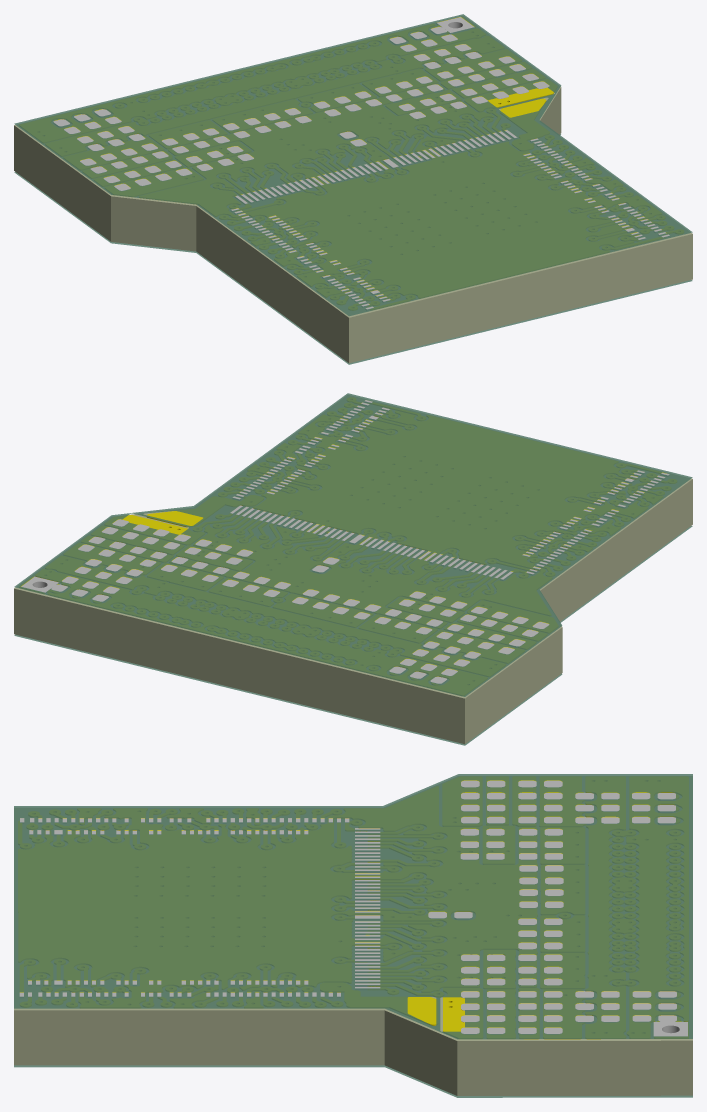
File: ASIC_512_Source_Board_V1.glb
The picture shows the model from 3 angles, top to bottom: view 1: azimuth 30°, elevation 25°; view 2: azimuth 150°, elevation 25°; view 3: azimuth 270°, elevation 25°; orthographic projection. The views are drawn at different scales.
Parts seen in each view (by area): view 1: =>[0:1:1:6], =>[0:1:1:2], =>[0:1:1:8], =>[0:1:1:3], =>[0:1:1:7], =>[0:1:1:4]; view 2: =>[0:1:1:6], =>[0:1:1:2], =>[0:1:1:8], =>[0:1:1:3], =>[0:1:1:7], =>[0:1:1:4]; view 3: =>[0:1:1:6], =>[0:1:1:2], =>[0:1:1:8], =>[0:1:1:3], =>[0:1:1:7], =>[0:1:1:4].
Boxes of the visible parts, x1,y1,x2,y2 form: =>[0:1:1:6]: (14, 14, 692, 316); =>[0:1:1:2]: (19, 17, 683, 310); =>[0:1:1:8]: (14, 16, 692, 363); =>[0:1:1:3]: (53, 17, 669, 310); =>[0:1:1:7]: (14, 134, 692, 364); =>[0:1:1:4]: (37, 27, 680, 307); =>[0:1:1:6]: (14, 393, 692, 696); =>[0:1:1:2]: (19, 398, 676, 695); =>[0:1:1:8]: (14, 395, 692, 744); =>[0:1:1:3]: (21, 400, 669, 684); =>[0:1:1:7]: (14, 526, 692, 745); =>[0:1:1:4]: (44, 399, 673, 684); =>[0:1:1:6]: (14, 774, 692, 1039); =>[0:1:1:2]: (18, 777, 688, 1039); =>[0:1:1:8]: (14, 776, 692, 1095); =>[0:1:1:3]: (19, 780, 687, 1036); =>[0:1:1:7]: (14, 1065, 692, 1097); =>[0:1:1:4]: (24, 780, 677, 1033).
Bounding box in the file's own units: 0.0156 × 0.00164 × 0.0169.
